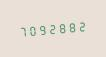eight: (57, 19, 66, 35), (67, 18, 76, 34)
nine: (37, 21, 46, 37)
seven: (17, 23, 26, 39)
two: (77, 17, 86, 34), (47, 20, 56, 36)
zero: (27, 22, 36, 38)
